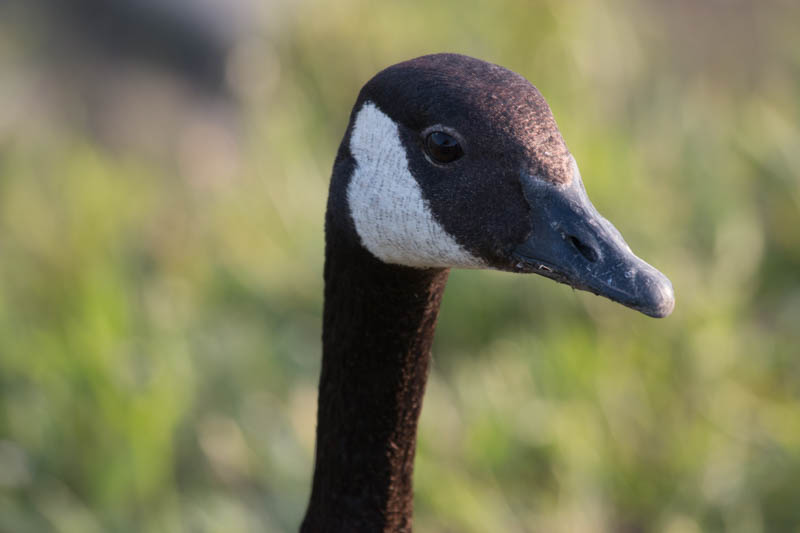goose-head: (325, 52, 676, 320)
